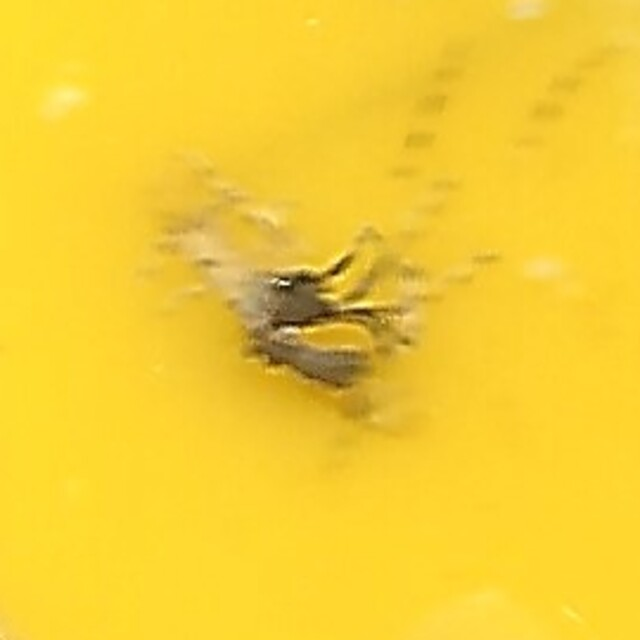Nematocera: (237, 240, 403, 400)
